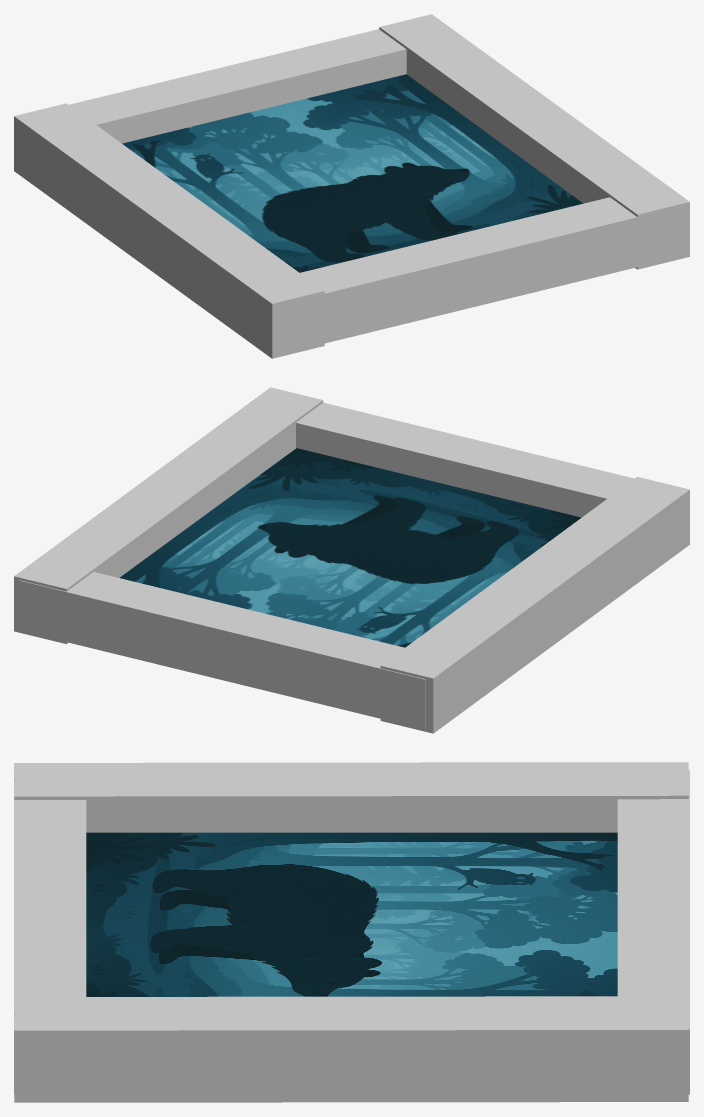
Rendered from Oso.fbx.
3 renders of one model, top to bottom at view 1: azimuth 30°, elevation 25°; view 2: azimuth 150°, elevation 25°; view 3: azimuth 270°, elevation 25°, orthographic. The views are drawn at different scales.
Parts seen in each view (by area): view 1: Cube.003, Plane; view 2: Cube.003, Plane; view 3: Cube.003, Plane.
Boxes of the visible parts, left/top/right/bottom form: Cube.003: left=14, top=14, right=689, bottom=358; Plane: left=122, top=74, right=582, bottom=272; Cube.003: left=14, top=387, right=689, bottom=733; Plane: left=119, top=448, right=581, bottom=647; Cube.003: left=14, top=762, right=689, bottom=1102; Plane: left=86, top=832, right=617, bottom=996.
Size of the model in its own units: 8780 by 1100 by 9342.
Materials: 1 (1 with a texture image).
